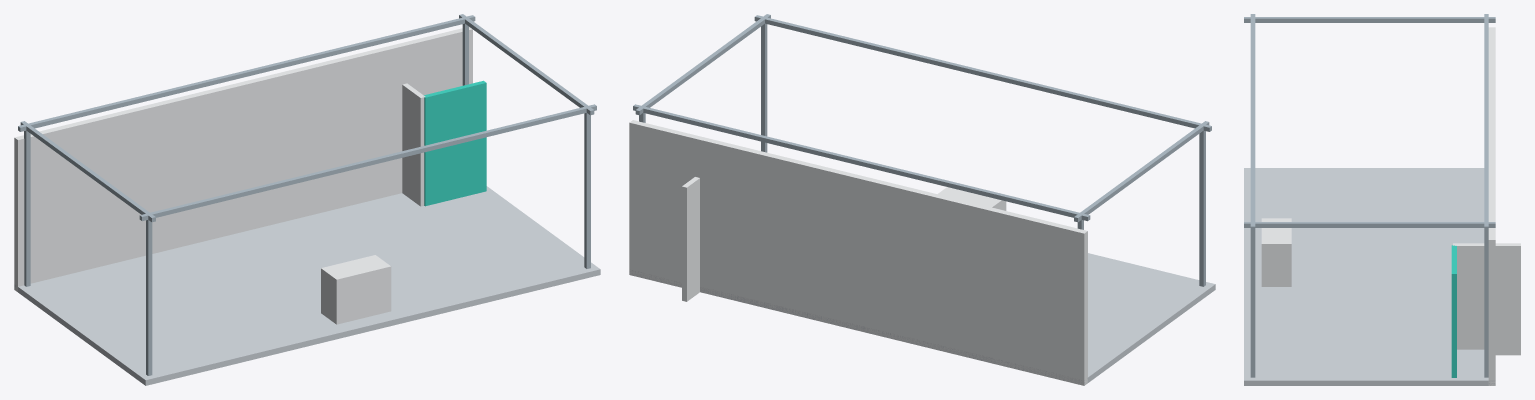
The picture shows the model from 3 angles, left to right: view 1: azimuth 30°, elevation 25°; view 2: azimuth 150°, elevation 25°; view 3: azimuth 270°, elevation 25°; orthographic projection. The views are drawn at different scales.
Visible parts, largest first — view 1: Exhibition Booth Concept; view 2: Exhibition Booth Concept; view 3: Exhibition Booth Concept.
Boxes of the visible parts, left/top/right/bottom form: Exhibition Booth Concept: left=14, top=14, right=600, bottom=385; Exhibition Booth Concept: left=629, top=14, right=1215, bottom=385; Exhibition Booth Concept: left=1244, top=14, right=1520, bottom=385.
Bounding box in the file's own units: 10 × 3.49 × 5.51.
